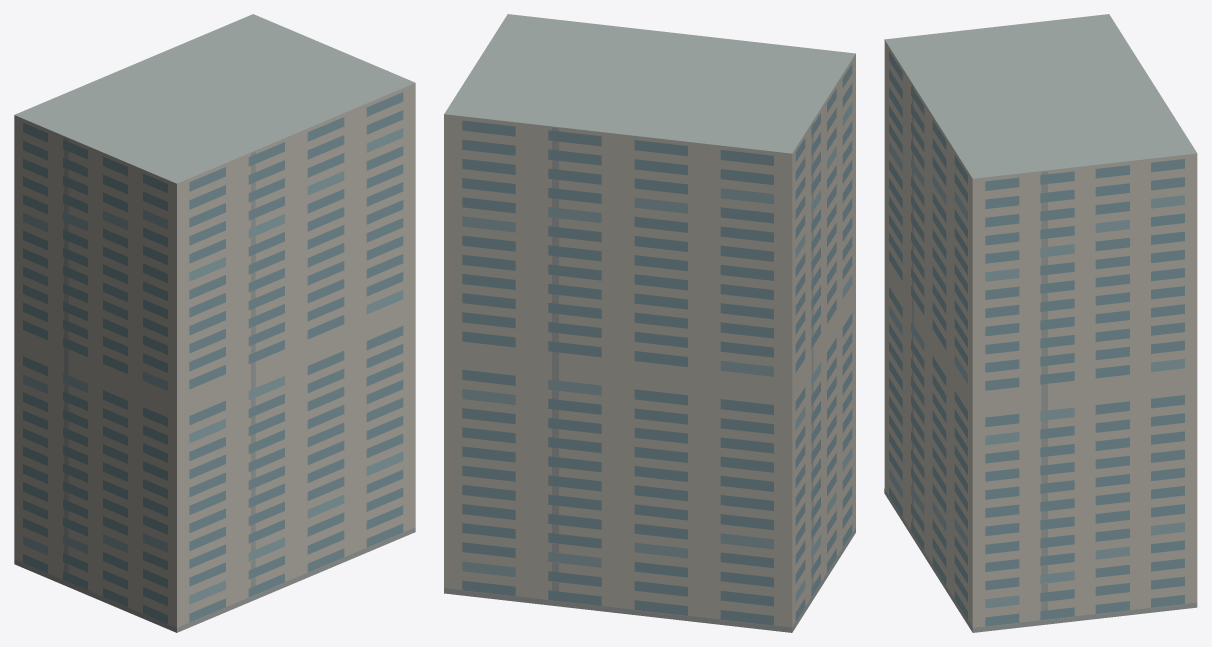
The model's file is residential-82e12b93-f6cc-489a-a381-ee0d4612bcab.glb.
3 renders of one model, left to right at view 1: azimuth 30°, elevation 25°; view 2: azimuth 150°, elevation 25°; view 3: azimuth 270°, elevation 25°, orthographic. The views are drawn at different scales.
Parts seen in each view (by area): view 1: residential-82e12b93-f6cc-489a-a381-ee0d4612bcab.tmp; view 2: residential-82e12b93-f6cc-489a-a381-ee0d4612bcab.tmp; view 3: residential-82e12b93-f6cc-489a-a381-ee0d4612bcab.tmp.
Part boxes in pixels (<box>): residential-82e12b93-f6cc-489a-a381-ee0d4612bcab.tmp: <box>14,14,415,632</box>; residential-82e12b93-f6cc-489a-a381-ee0d4612bcab.tmp: <box>444,14,855,632</box>; residential-82e12b93-f6cc-489a-a381-ee0d4612bcab.tmp: <box>884,14,1197,632</box>.
Bounding box in the file's own units: 70.06 × 90 × 56.22.
